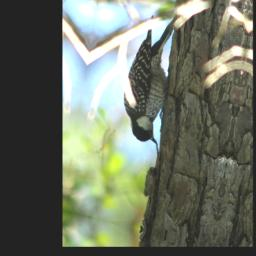Woodpecker: (116, 6, 181, 147)
